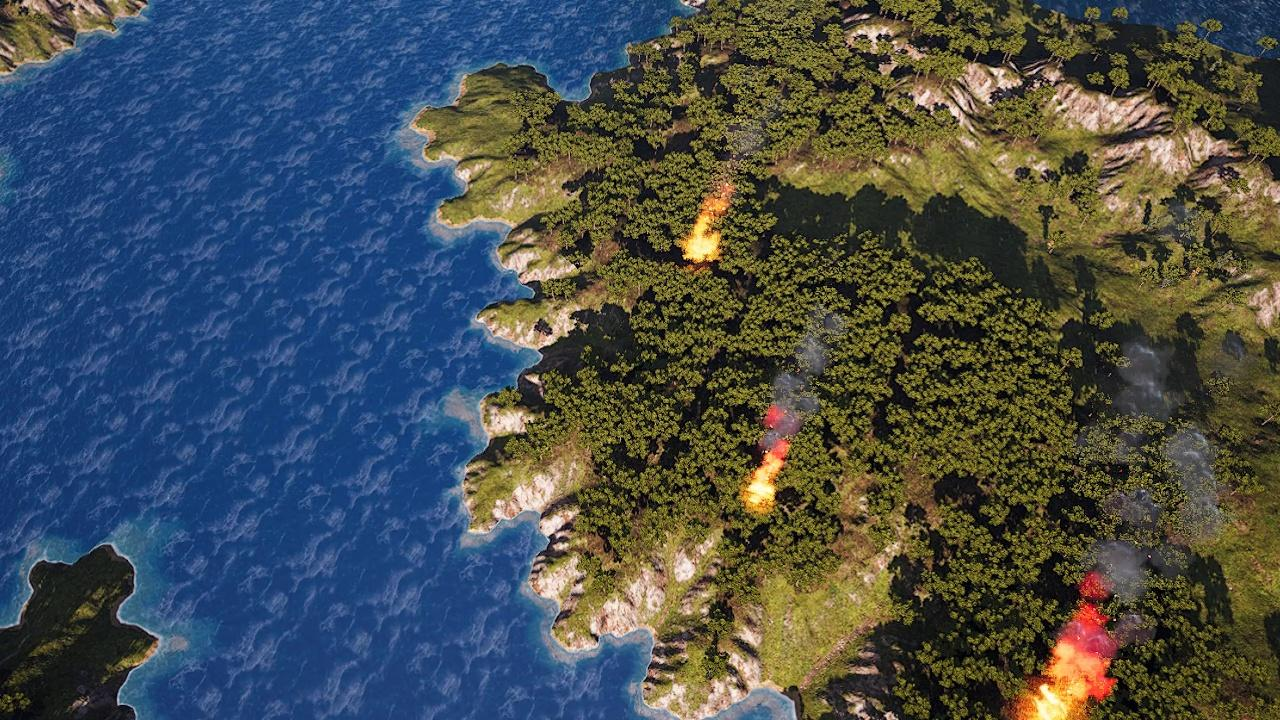fire: (1026, 626, 1118, 718), (682, 187, 730, 263), (744, 453, 787, 506)
smoke: (1040, 332, 1230, 714), (759, 311, 849, 463)
